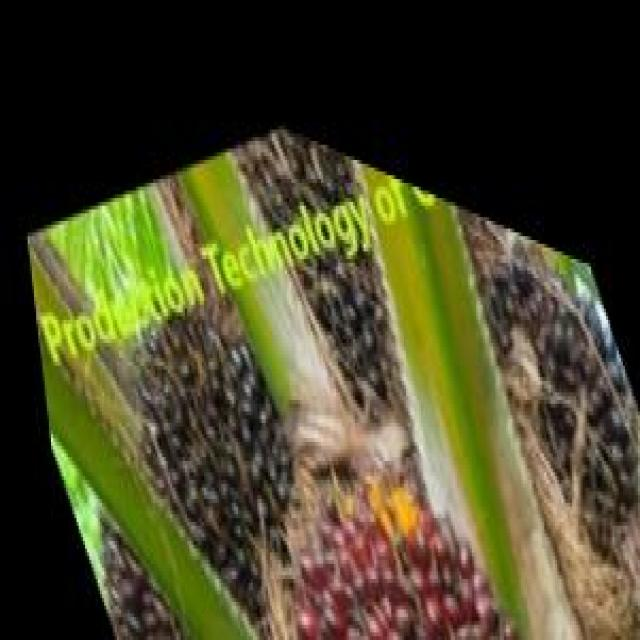Ripefruit: (221, 305, 559, 640)
